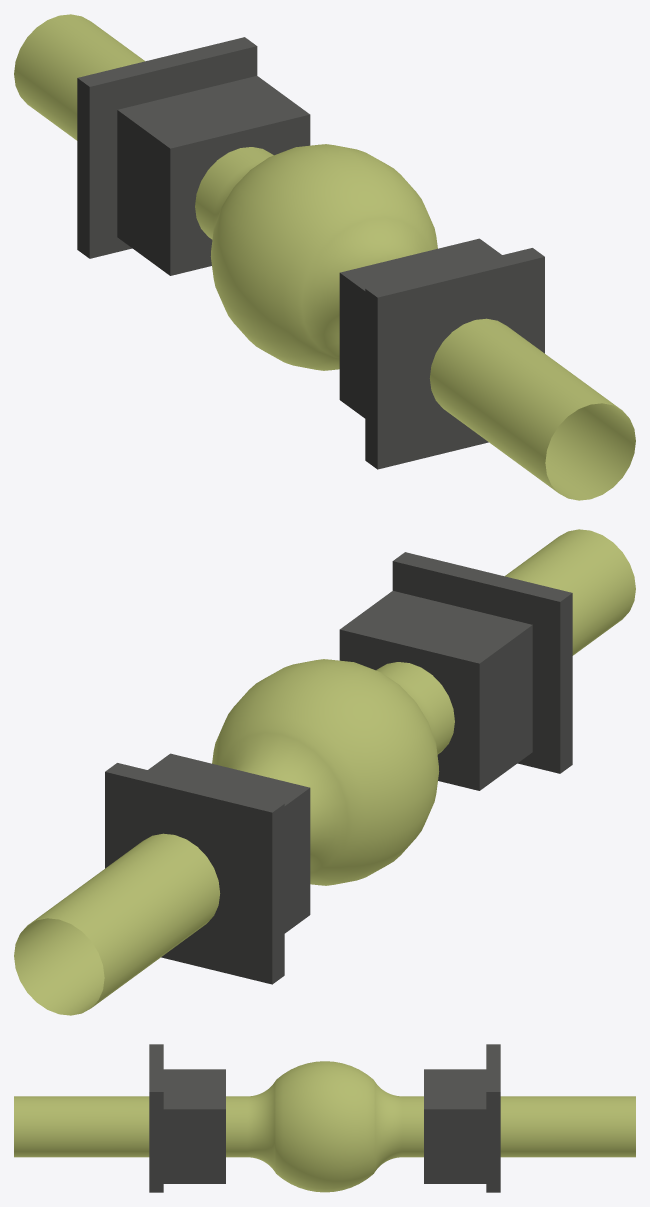
Rendered from Suspension_back.dae.
The picture shows the model from 3 angles, top to bottom: view 1: azimuth 30°, elevation 25°; view 2: azimuth 150°, elevation 25°; view 3: azimuth 270°, elevation 25°; orthographic projection. The views are drawn at different scales.
Visible parts, largest first — view 1: Back_Suspenssion; view 2: Back_Suspenssion; view 3: Back_Suspenssion.
Boxes of the visible parts, bbox=[...] form: Back_Suspenssion: bbox=[14, 14, 635, 500]; Back_Suspenssion: bbox=[14, 529, 635, 1015]; Back_Suspenssion: bbox=[14, 1044, 635, 1192].
Size of the model in its own units: 0.365 by 1.72 by 0.365.
